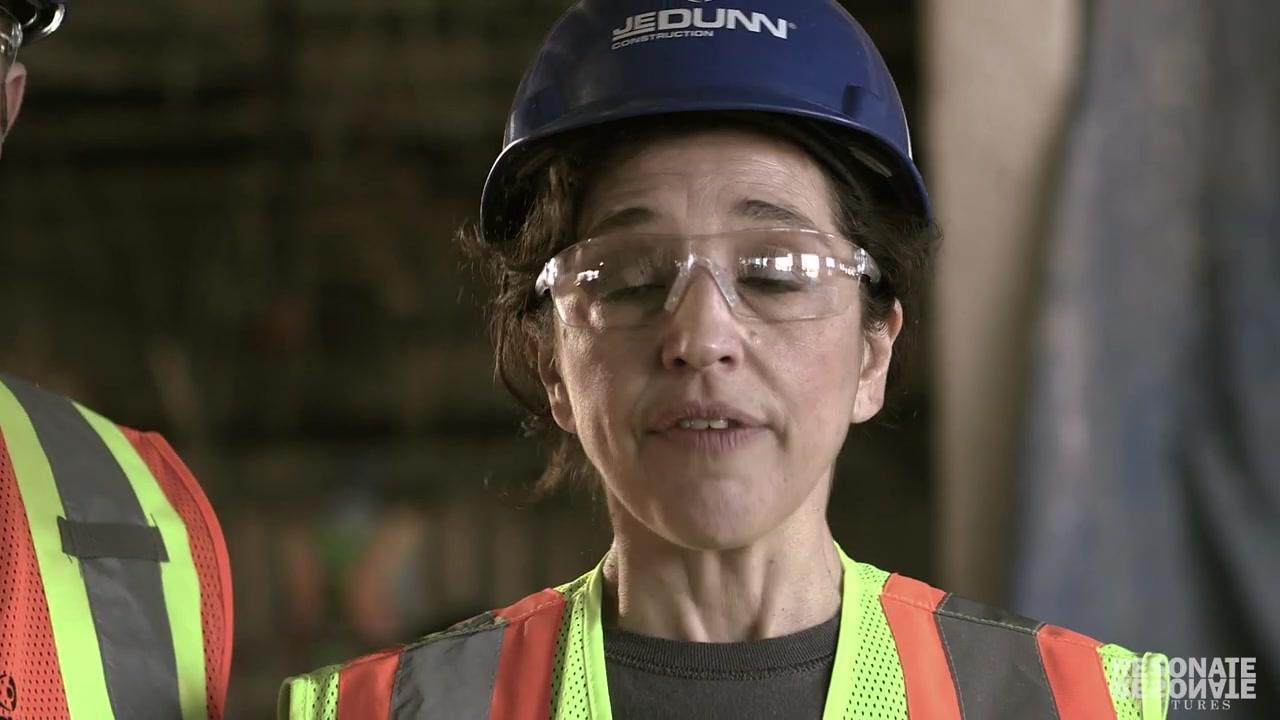vest: (273, 543, 1182, 717), (0, 366, 241, 717)
